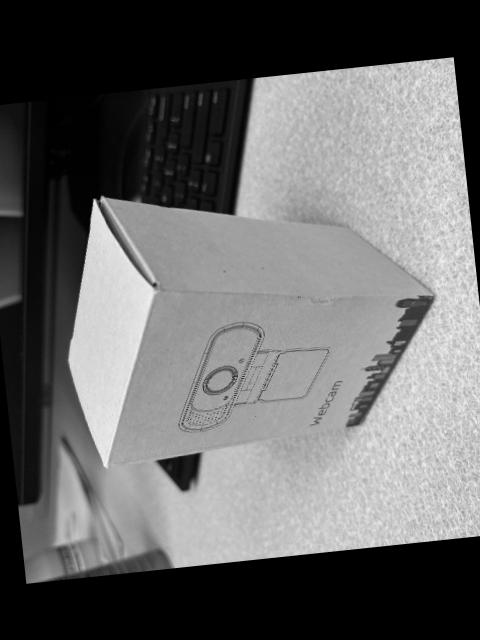CameraBox1: (68, 196, 438, 467)
